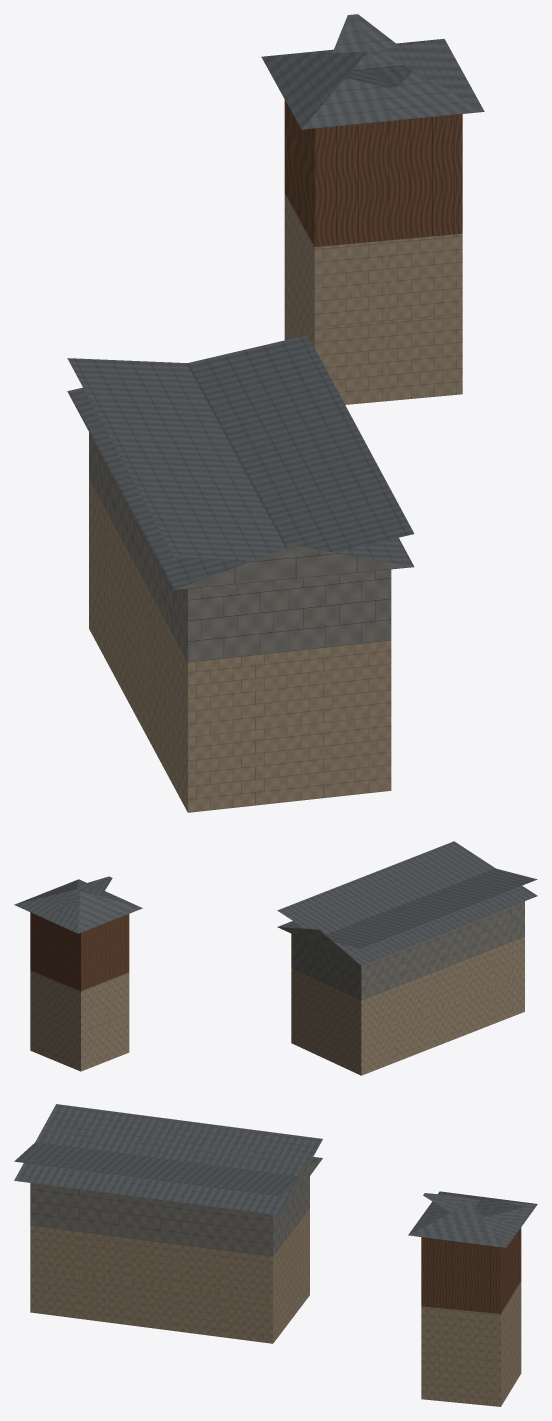
Rendered from bld_c9_42_509.gltf.
The picture shows the model from 3 angles, top to bottom: view 1: azimuth 30°, elevation 25°; view 2: azimuth 150°, elevation 25°; view 3: azimuth 270°, elevation 25°; orthographic projection. The views are drawn at different scales.
Parts seen in each view (by area): view 1: bld_c9_42_509; view 2: bld_c9_42_509; view 3: bld_c9_42_509.
Boxes of the visible parts, <box> form: bld_c9_42_509: <box>67,14,484,812</box>; bld_c9_42_509: <box>14,841,537,1075</box>; bld_c9_42_509: <box>14,1104,537,1406</box>.
Bounding box in the file's own units: 20.82 × 11.2 × 24.77.
5 materials, 5 textured.
